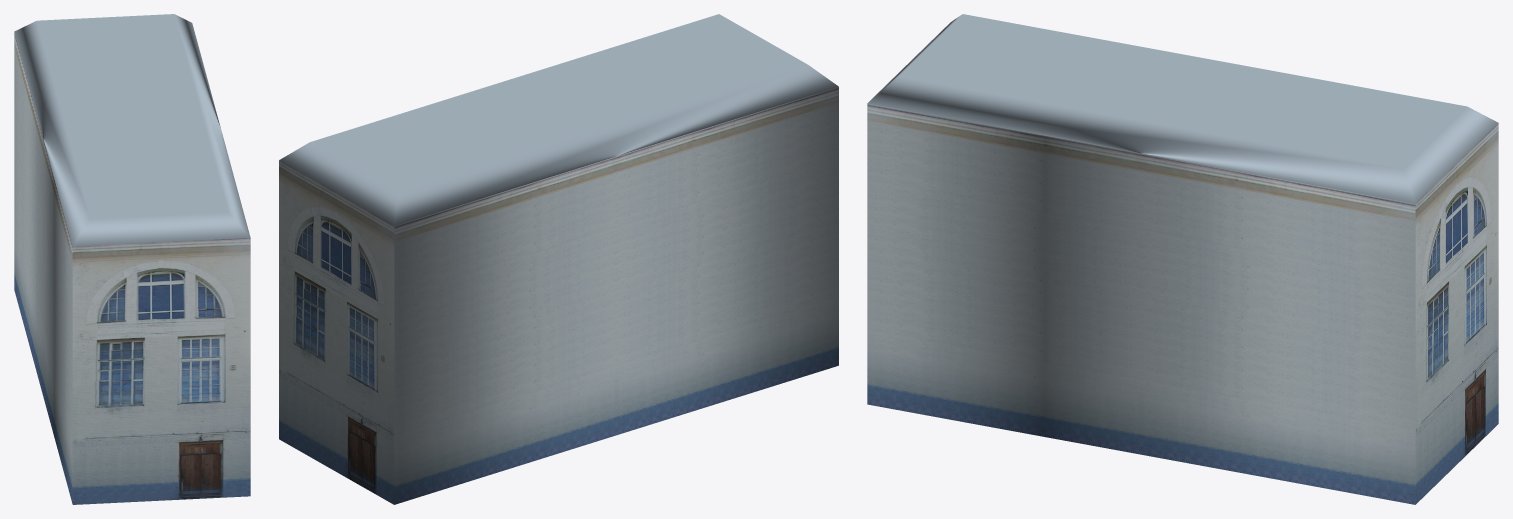
Rendered from lp-building14.fbx.
The picture shows the model from 3 angles, left to right: view 1: azimuth 30°, elevation 25°; view 2: azimuth 150°, elevation 25°; view 3: azimuth 270°, elevation 25°; orthographic projection. The views are drawn at different scales.
Visible parts, largest first — view 1: 01houses.002; view 2: 01houses.002; view 3: 01houses.002.
Boxes of the visible parts, x1,y1,x2,y2 form: 01houses.002: (14, 14, 250, 504); 01houses.002: (279, 14, 838, 504); 01houses.002: (867, 14, 1498, 504).
Size of the model in its own units: 712 by 591 by 1047.
Materials: 1 (1 with a texture image).
